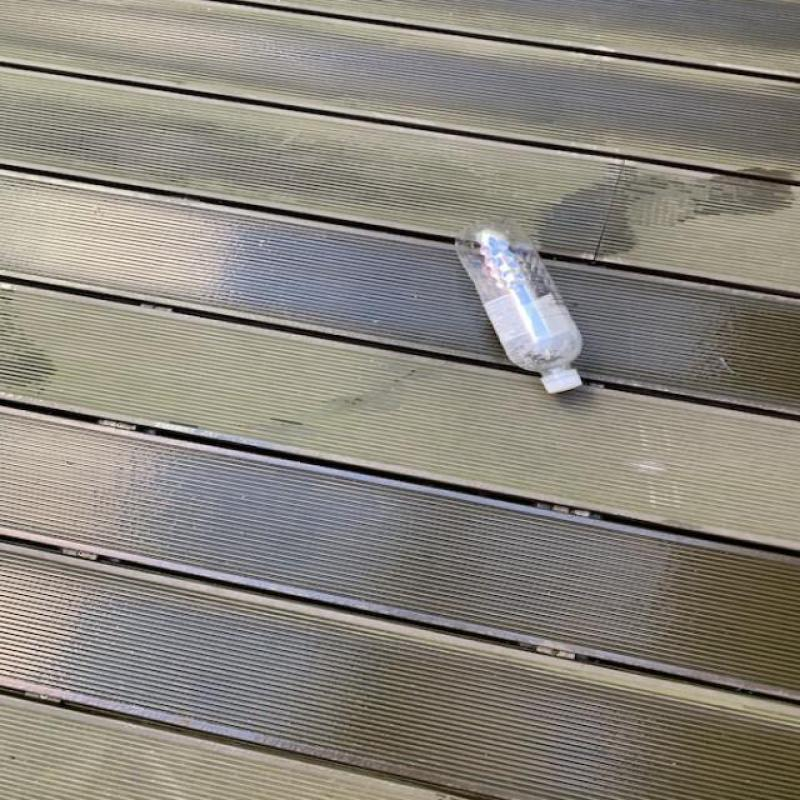botella: (455, 219, 583, 395)
